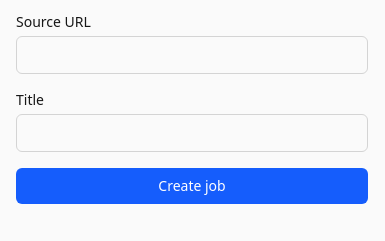
Scenario: CreateJobForm › shows a server validation error under the source URL field
The width and height of the screenshot is (385, 241).
Type "https://cdn.example.com/videos/my-video.mp4" into the field labelled "Source URL" at (192, 55), box [16,36,368,74]
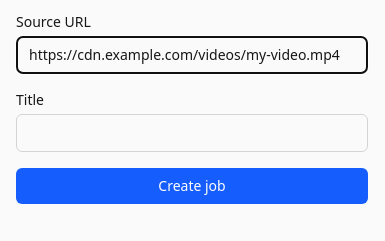
Click the button "Create job" at (192, 186), box [16,168,368,204]
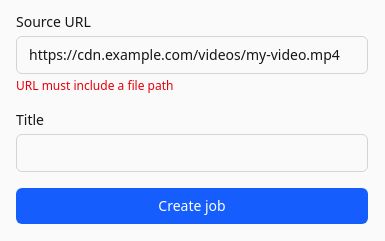
expect the text "URL must include a file path" is shown: met, box [16,77,174,94]
